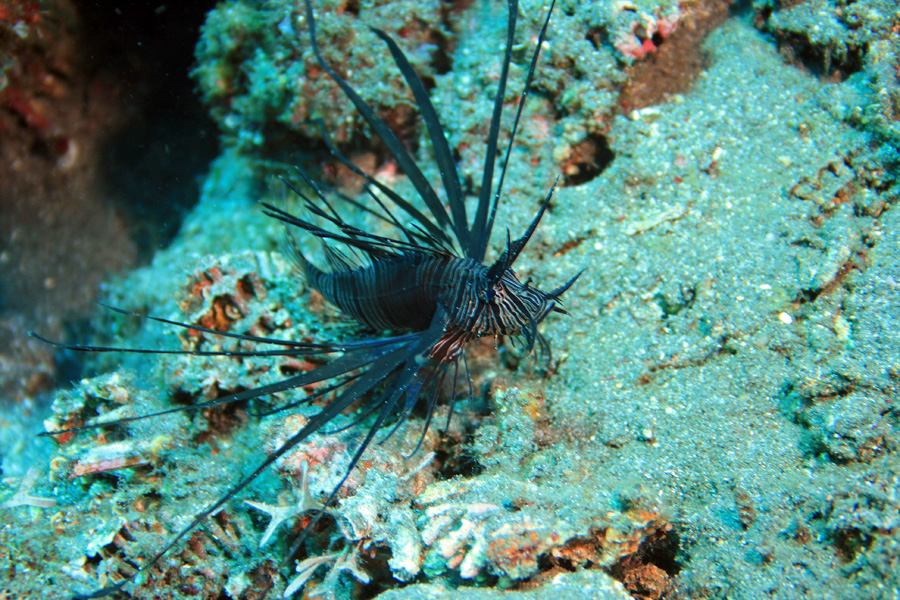Pterois_volitans: (231, 59, 617, 499)
